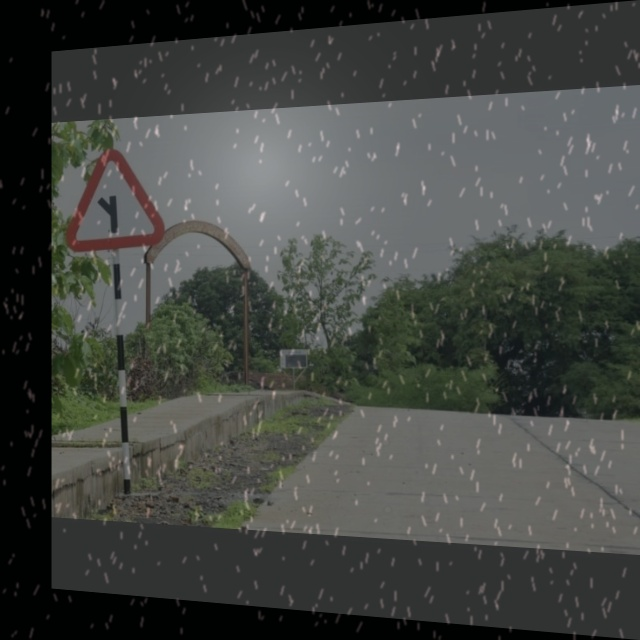Y_Intersection: (67, 144, 167, 253)
